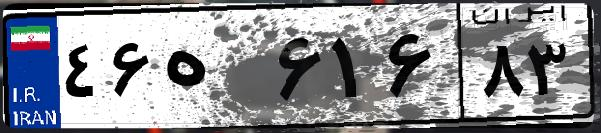1: (330, 28, 385, 110)
3: (525, 38, 570, 115)
4: (57, 26, 110, 100)
6: (270, 28, 330, 110), (385, 28, 445, 110), (110, 28, 158, 98)
8: (475, 38, 525, 113)
ه: (158, 20, 270, 120)
